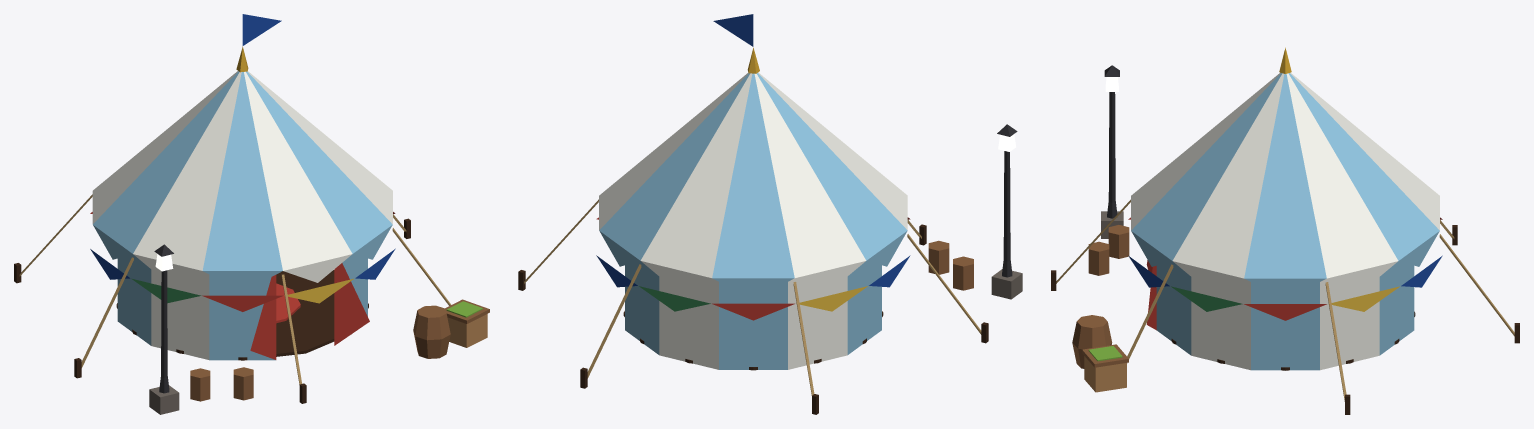
The model's file is tent_round.fbx.
The picture shows the model from 3 angles, left to right: view 1: azimuth 30°, elevation 25°; view 2: azimuth 150°, elevation 25°; view 3: azimuth 270°, elevation 25°; orthographic projection. The views are drawn at different scales.
Parts seen in each view (by area): view 1: tent_round; view 2: tent_round; view 3: tent_round.
Boxes of the visible parts, left/top/right/bottom form: tent_round: left=14, top=14, right=489, bottom=414; tent_round: left=518, top=14, right=1022, bottom=414; tent_round: left=1051, top=47, right=1519, bottom=414.
Bounding box in the file's own units: 7.03 × 5 × 7.03.
